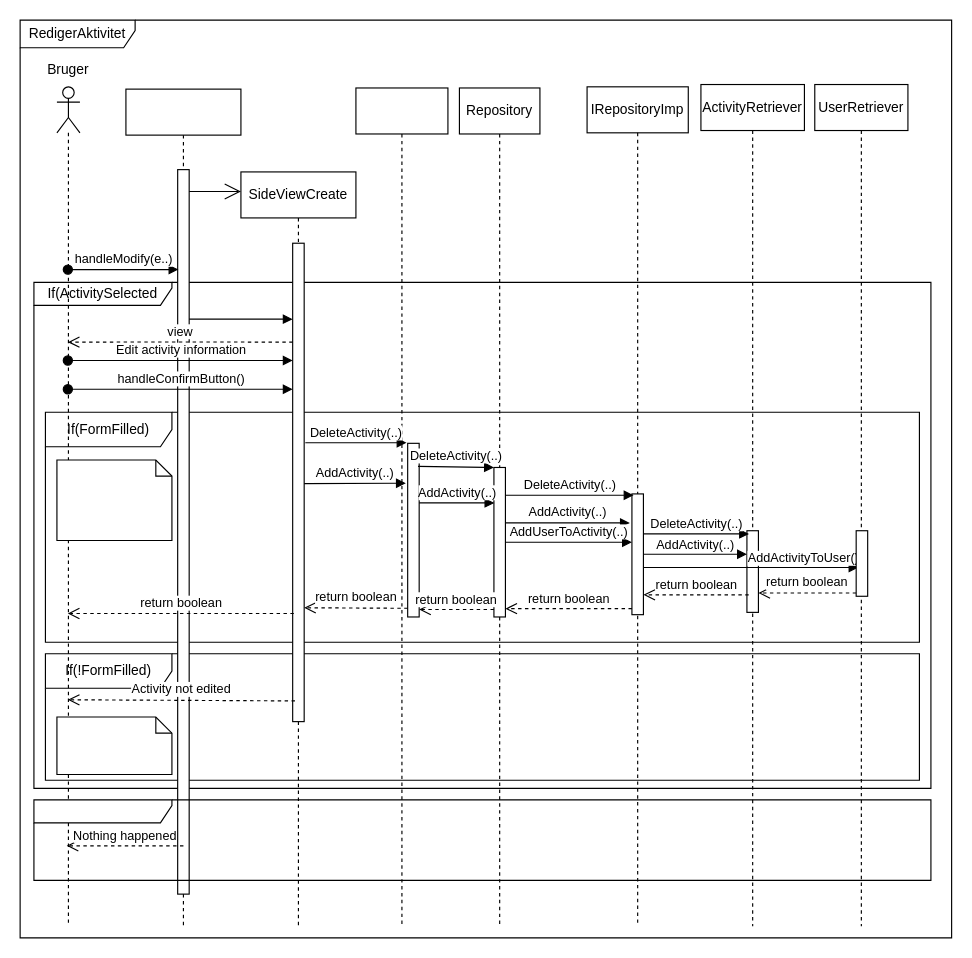
Image size: 972x958. Some labels were removed from this diagram. Here are the shapes that lost their labels. From the top down, the box of each, then its label:
(56, 459, 172, 540): Hvis alle felter er udfyldt
(125, 88, 241, 926): SideViewActivity
(355, 87, 448, 926): ISideViewImp
(56, 716, 172, 775): Hvis ikke alle felter er udfyldt
(33, 799, 931, 880): If(!ActivitySelected
